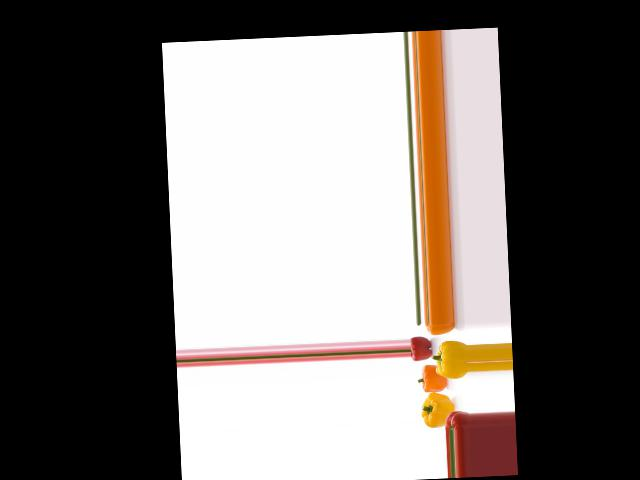bell_pepper: (424, 321, 455, 337)
